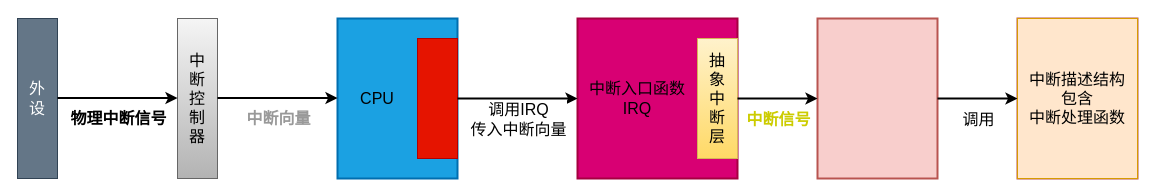
The diagram is 1156 pixels wide and 196 high, and some of its shapes have lost their labels. The shapes that lost their labels are listed below. From the top down, each one's centre as x and y in pixels, then its label:
the point at 437,98: 中 断 向 量 表
the point at 877,98: 基数树 组织 中断描述结构
